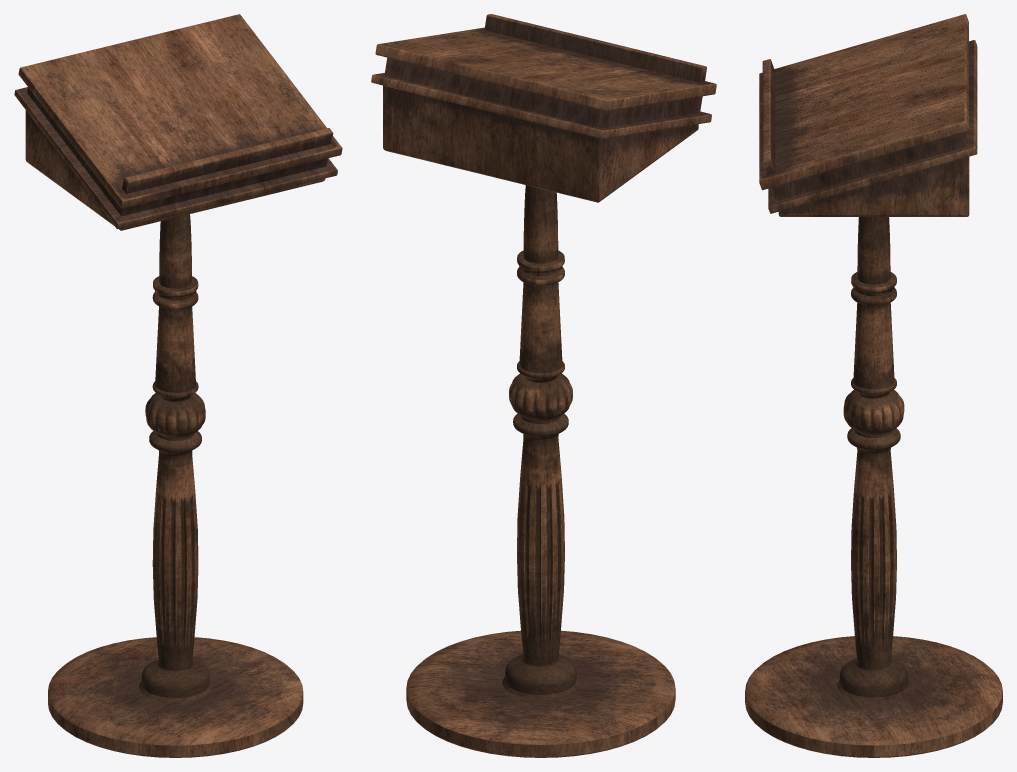
File: lectern.glb
3 views of the same model, side by side, from view 1: azimuth 30°, elevation 25°; view 2: azimuth 150°, elevation 25°; view 3: azimuth 270°, elevation 25° (orthographic). The views are drawn at different scales.
Size of the model in its own units: 0.5601 by 1.53 by 0.5601.
Materials: 1 (1 with a texture image).
